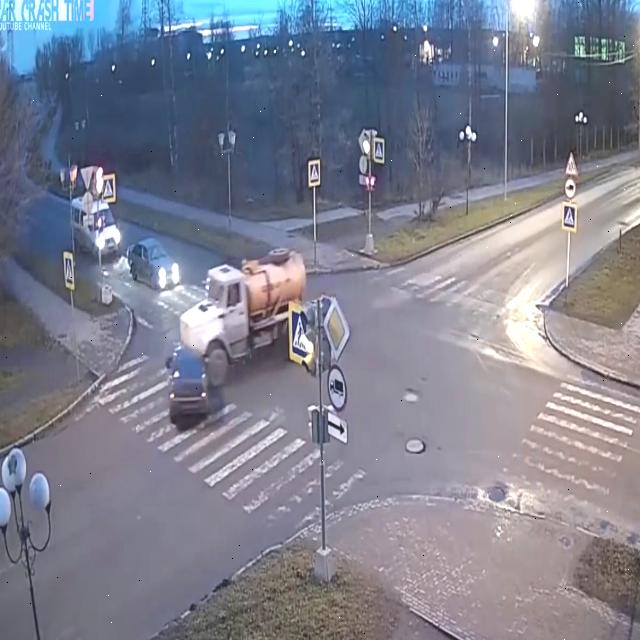accident: (151, 229, 329, 439)
